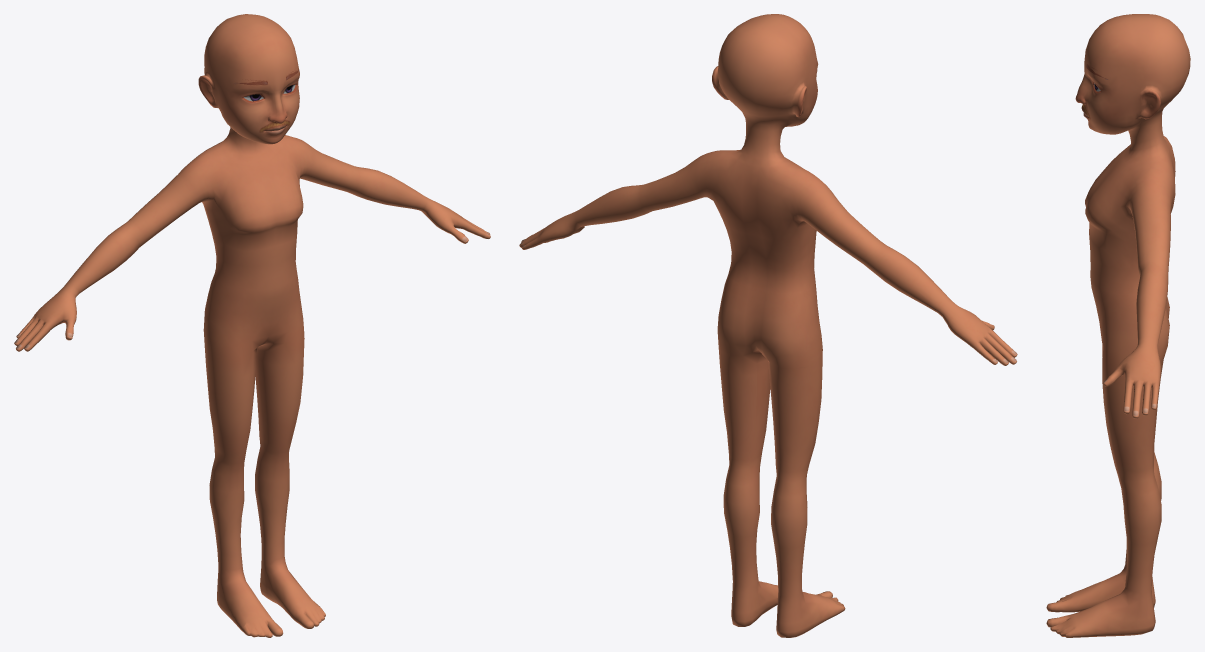
The model's file is frame_0001.glb.
3 renders of one model, left to right at view 1: azimuth 30°, elevation 25°; view 2: azimuth 150°, elevation 25°; view 3: azimuth 270°, elevation 25°, orthographic. The views are drawn at different scales.
Parts seen in each view (by area): view 1: frame_0001_head_geo; view 2: frame_0001_head_geo; view 3: frame_0001_head_geo.
Part boxes in pixels (box(x1,y1,x2,y2)): frame_0001_head_geo: box(14, 14, 490, 637); frame_0001_head_geo: box(519, 14, 1017, 637); frame_0001_head_geo: box(1046, 14, 1190, 637).
Size of the model in its own units: 1.28 by 1.5 by 0.3253.
3 materials, 3 textured.
